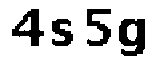4: (7, 5, 46, 48)
5: (80, 5, 115, 50)
g: (117, 17, 151, 60)
s: (47, 15, 77, 50)
